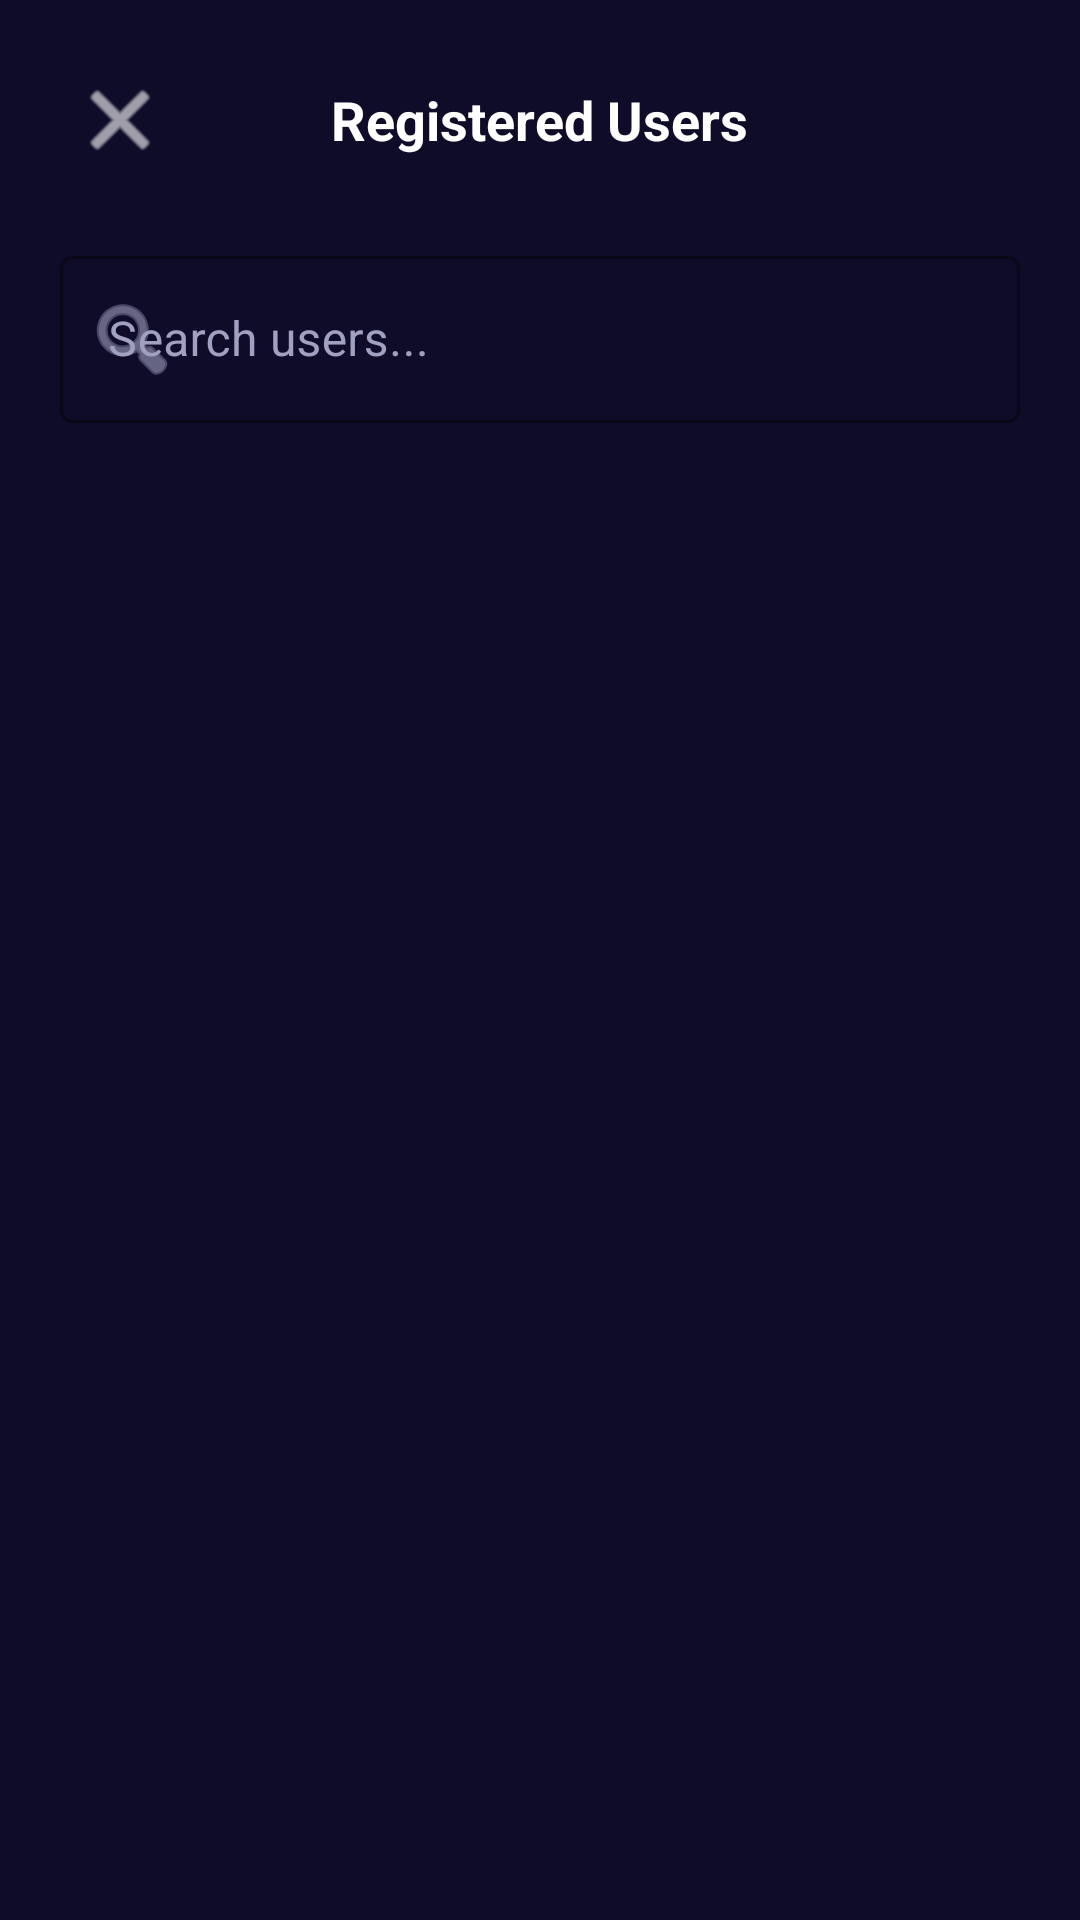

Screen size 1080x1920. Icon name, then its center in pixels as (x=x, y=y):
close clear cancel: (x=120, y=120)
